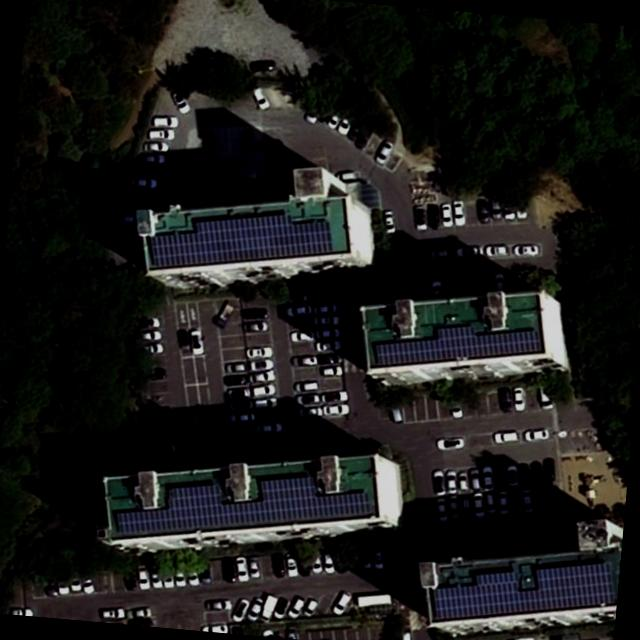solar: (110, 458, 376, 560), (425, 546, 619, 638), (143, 201, 339, 284), (370, 314, 550, 378)
